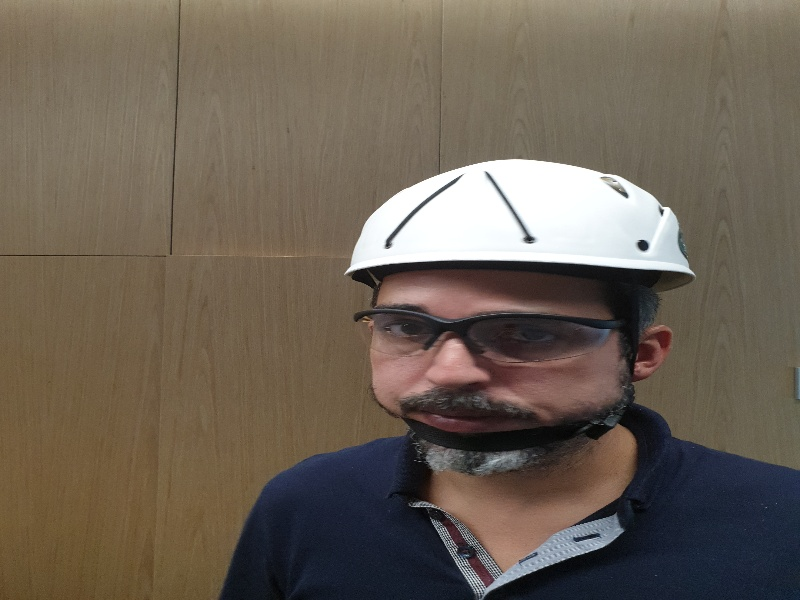Baret: (345, 159, 693, 279)
Gozluk: (353, 308, 636, 361)
